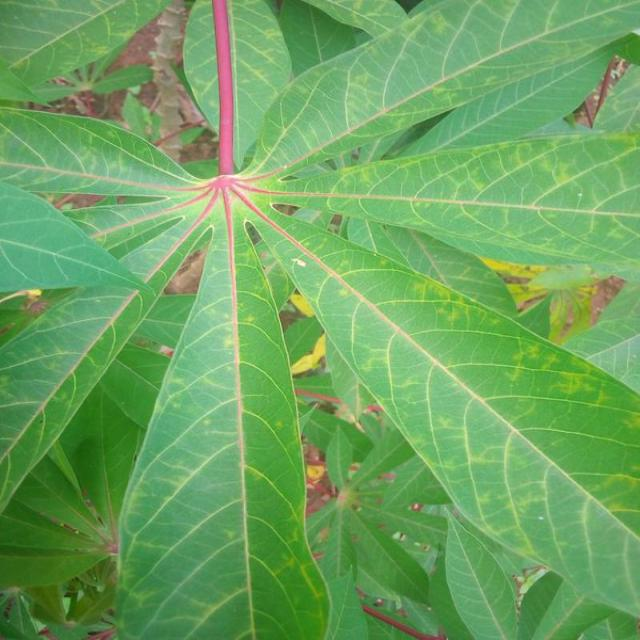cassava leaf: (1, 0, 638, 639), (113, 188, 332, 638)
